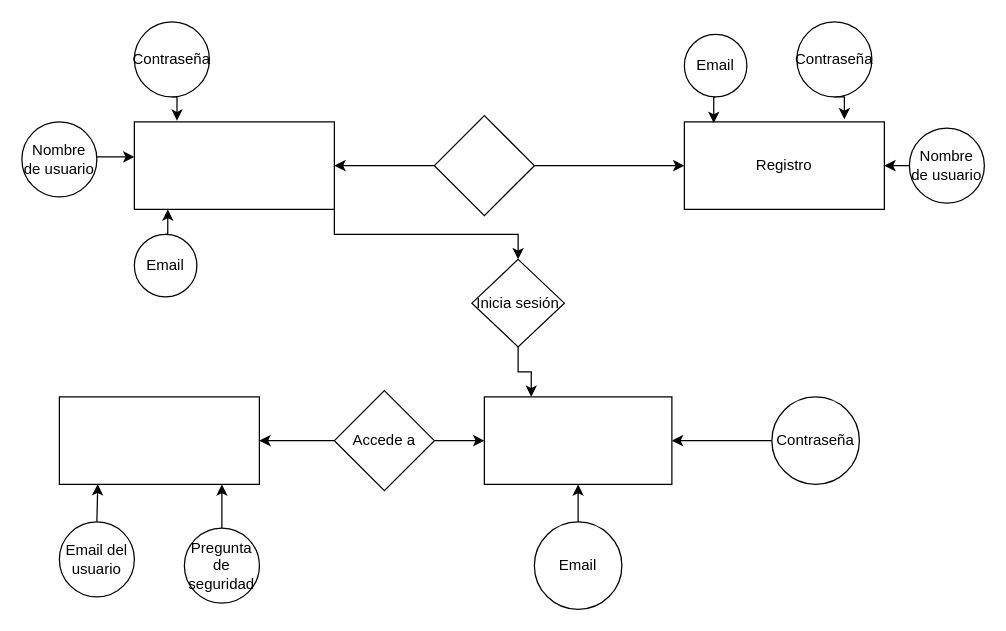
This 1006x631 diagram has some shape labels left out. The centre of each missing label's shape, as x and y in pixels:
"Inicio de Sesion" belongs at point 577,440.
"Se registra" belongs at point 483,165.
"Sistema de recuperación" belongs at point 158,440.
"Usuario" belongs at point 233,165.
